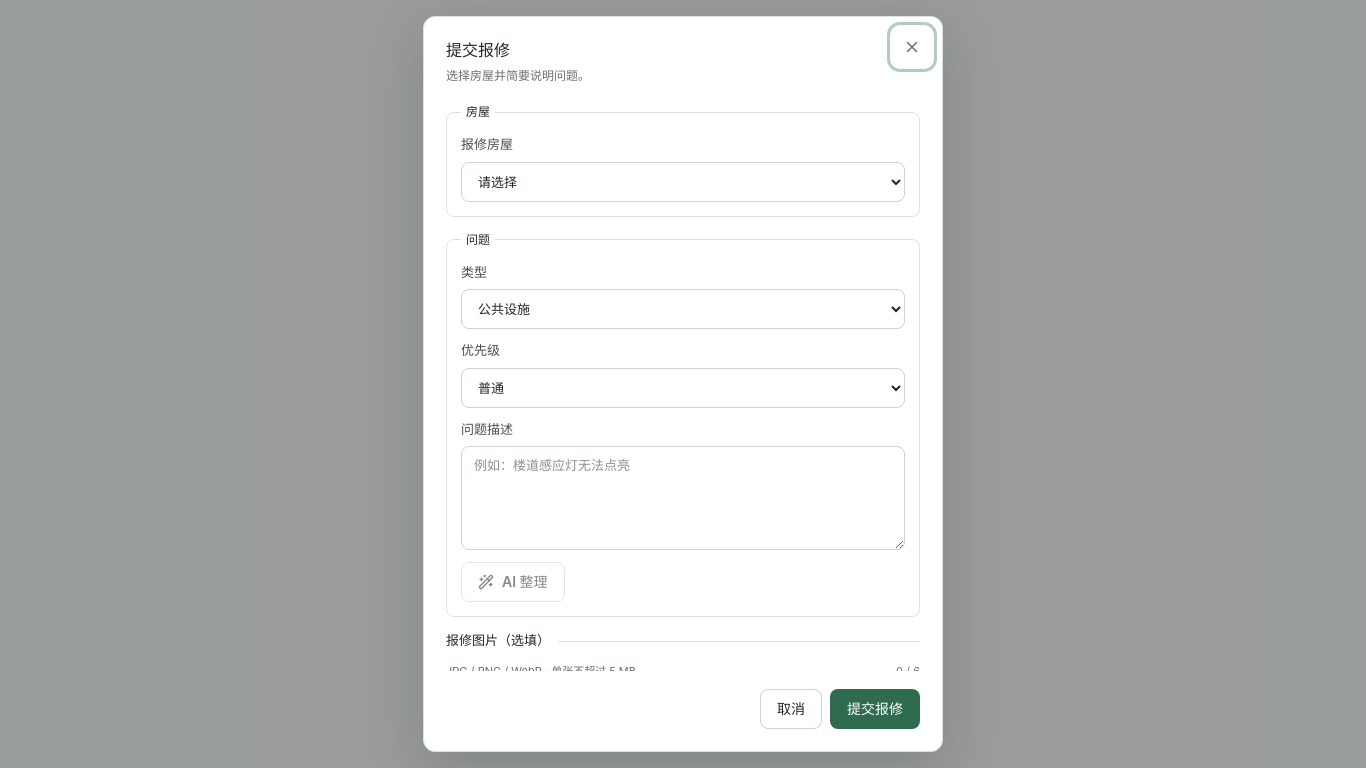
AI form assistance › keeps the repair editable after AI is unavailable and allows a retry
This screenshot has width=1366, height=768.
In the text box labelled "问题描述": (683, 498) [461,446,905,550], type "水龙头漏水关不住"
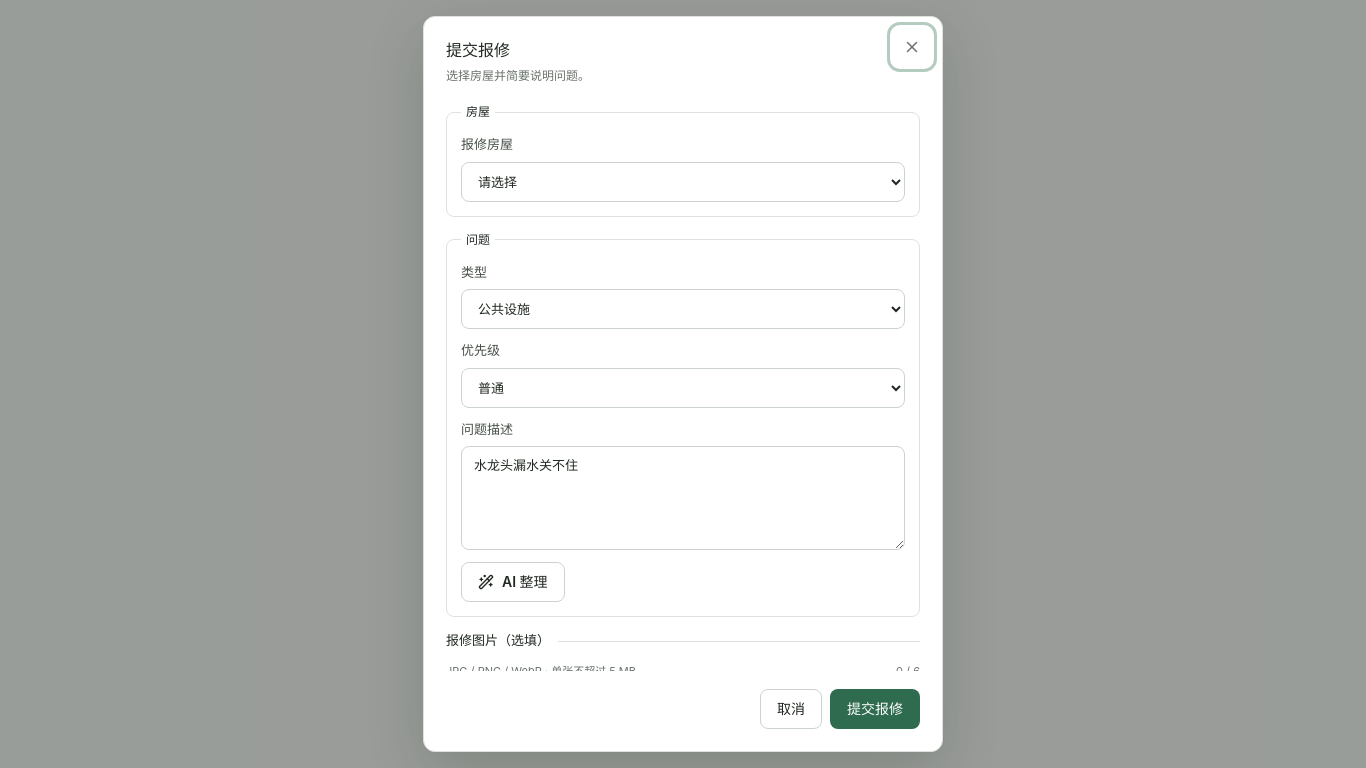
Click the button "AI 整理": (513, 582) [461,562,565,602]
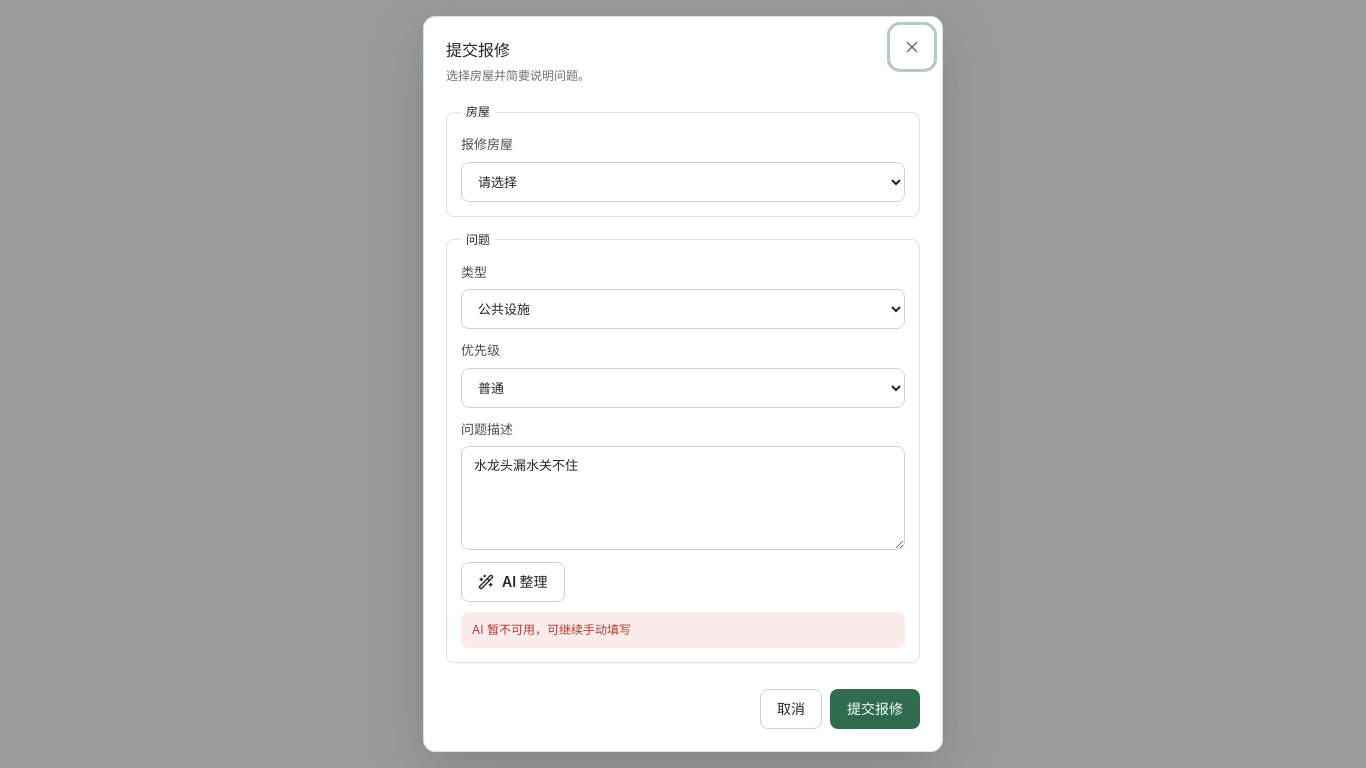
Check: the text box labelled "问题描述" is enabled, box [461,446,905,550]
Check: the message shows "AI 暂不可用", box [472,622,631,637]
Click the button "AI 整理": (513, 582) [461,562,565,602]
(page scrolled)
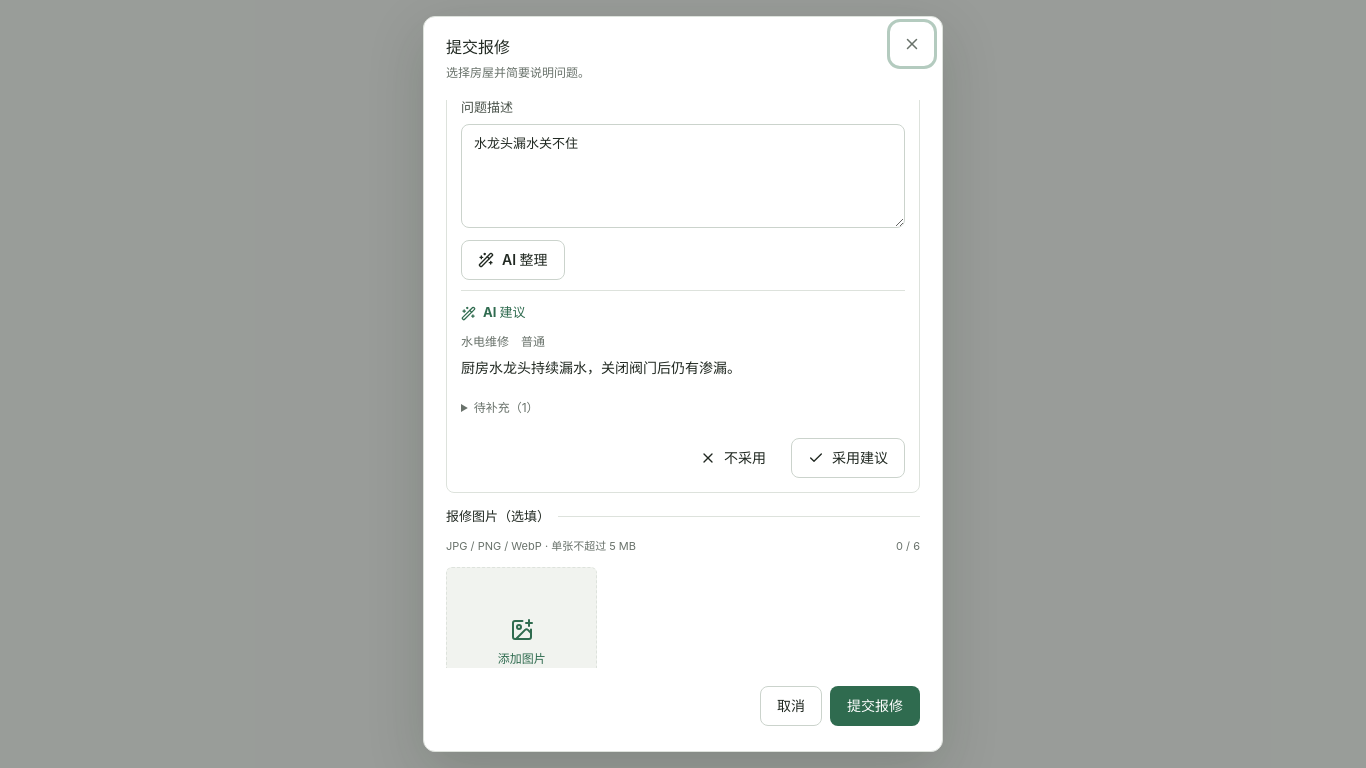
Check: the element "AI 建议" is shown, box [461,290,905,478]
